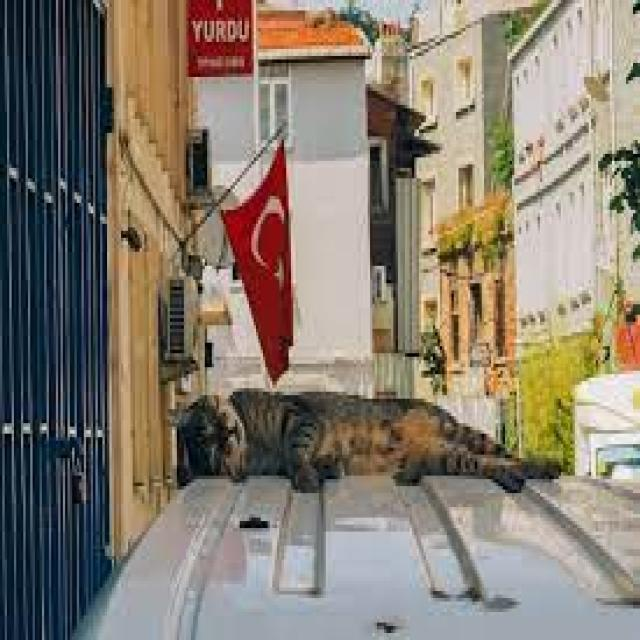cat: (177, 389, 560, 491)
